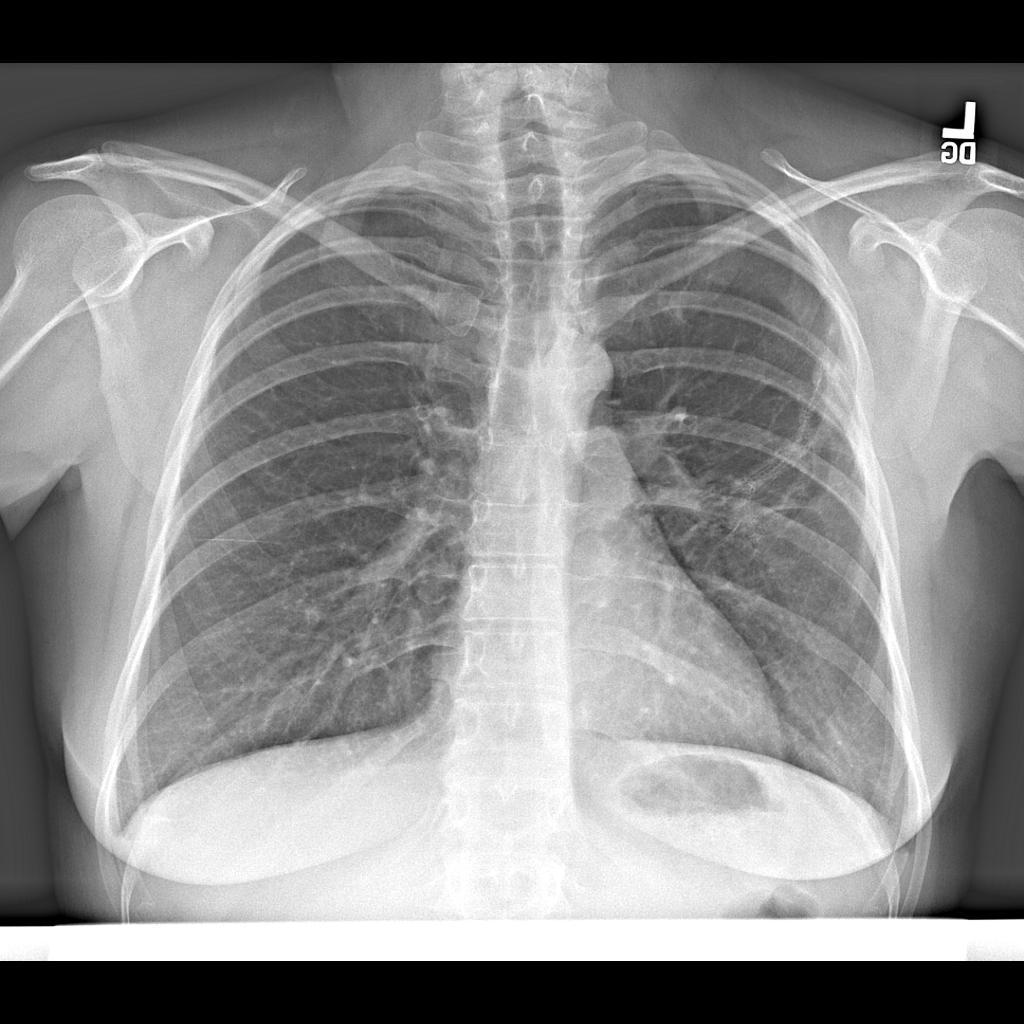Nodule: (726, 497, 767, 540)
